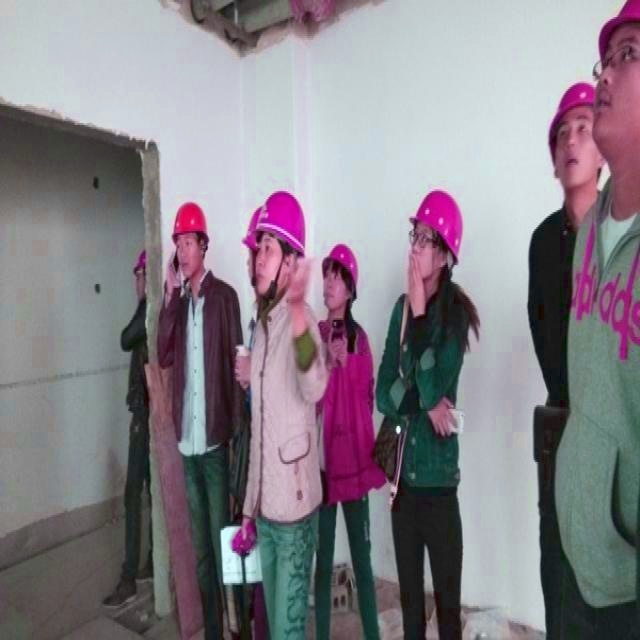Con_Casco: (259, 190, 309, 299), (173, 204, 208, 276)
Sin_Chaleco: (248, 303, 316, 520)
